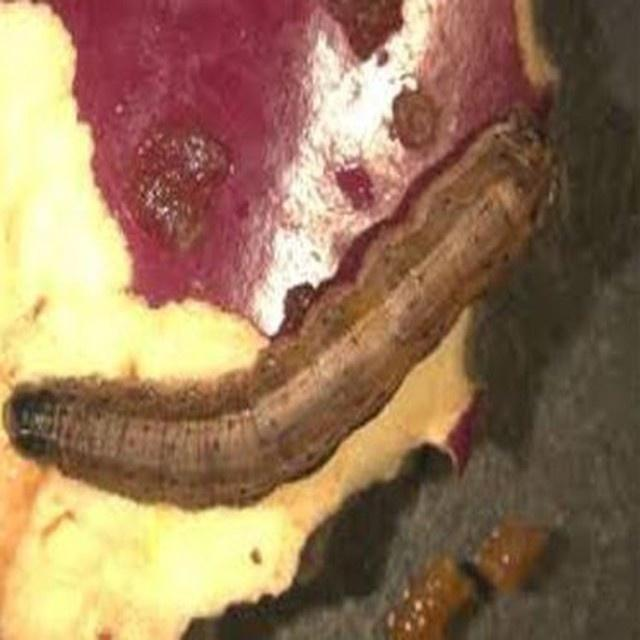Plaga: (5, 118, 550, 511)
